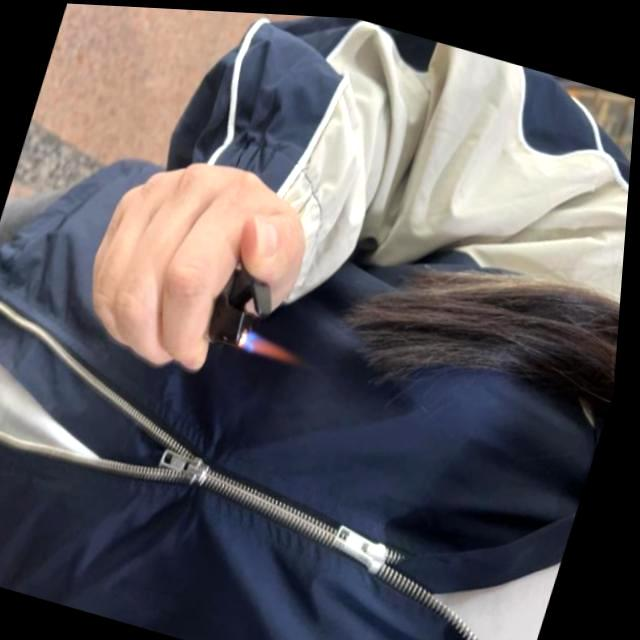fire: (239, 327, 313, 361)
